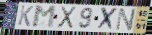9: (78, 7, 94, 30)
K: (17, 5, 35, 28)
M: (32, 5, 57, 29)
N: (114, 7, 137, 32)
X: (95, 7, 119, 32), (56, 6, 78, 30)
